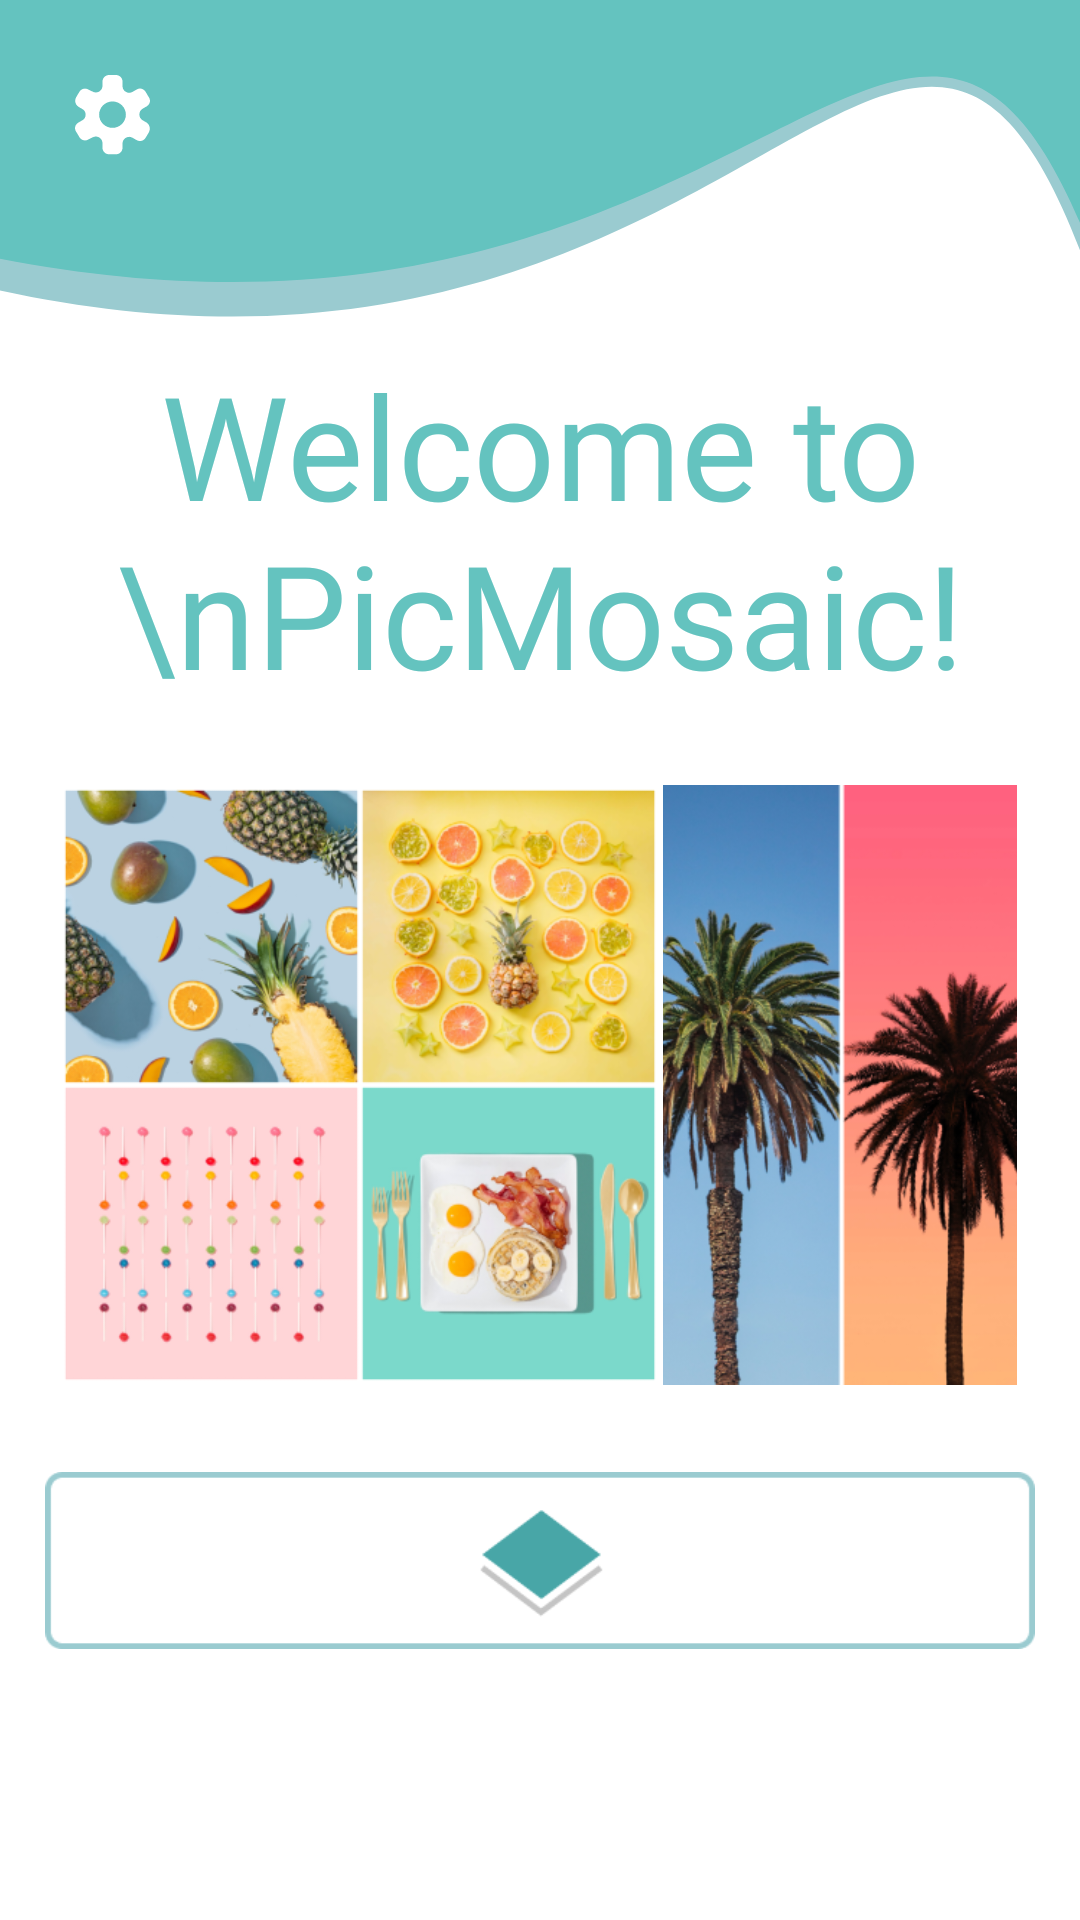

Icons on this 1080px x 1920px Android screen, each with its box as (x1, y1, x2, y2):
settings: (75, 75, 150, 155)
